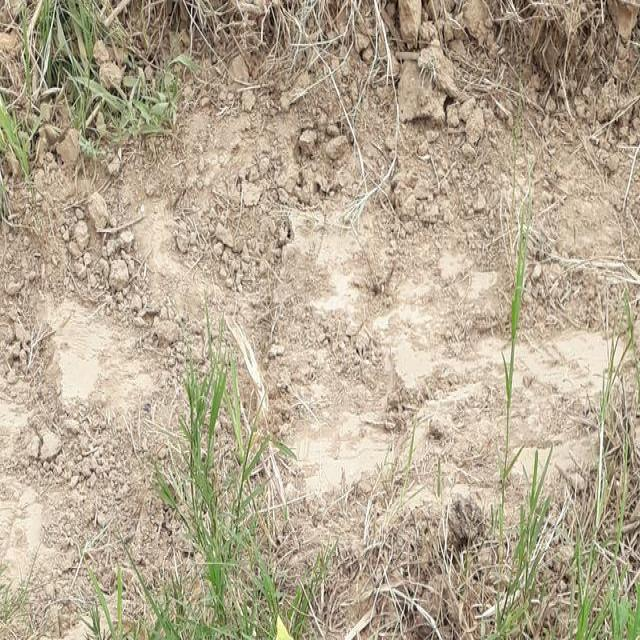weed: (166, 389, 275, 640), (525, 448, 640, 640), (510, 233, 524, 546)
